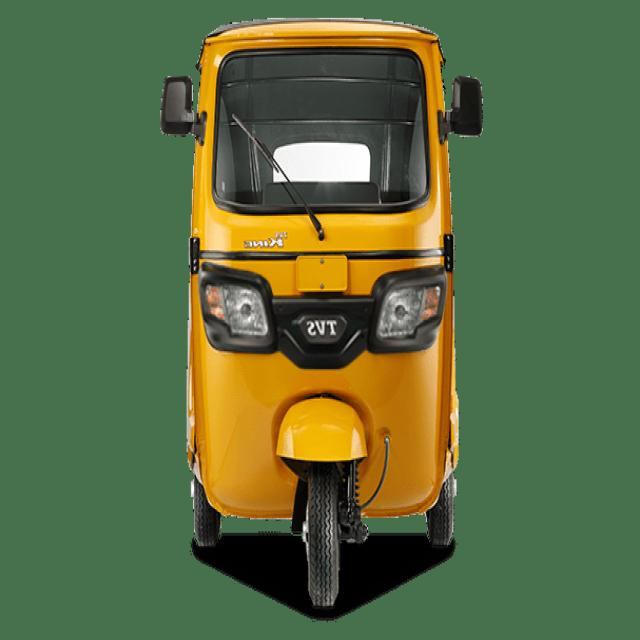autorickshaw: (161, 19, 482, 608)
